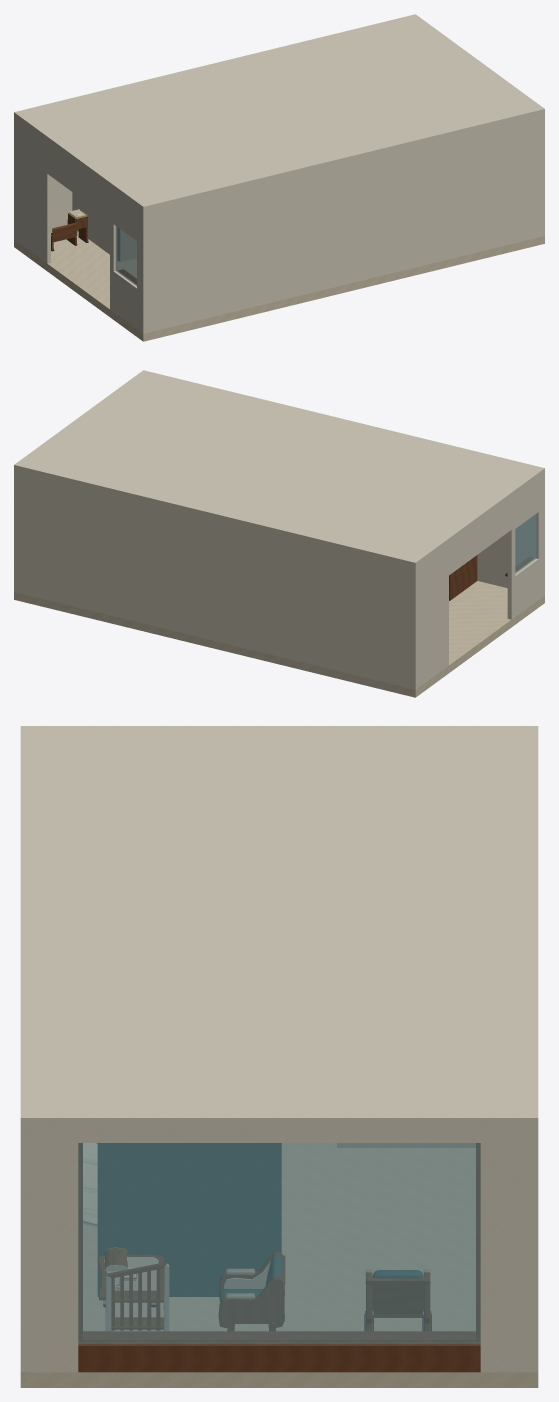
The model's file is QuietGroveBank_147_r001.glb.
The picture shows the model from 3 angles, top to bottom: view 1: azimuth 30°, elevation 25°; view 2: azimuth 150°, elevation 25°; view 3: azimuth 270°, elevation 25°; orthographic projection. The views are drawn at different scales.
Visible parts, largest first — view 1: QG147_Ceiling, QG147_NorthSide, QG147_RoomFloor, QG147_EntryShoulderSouth, QG147_EntryHeader, QG147_StreetWindowLower, QG147_WashEntrySide, QG147_SouthSide, QG147_StreetWindowUpper, QG147_ScreenedStreetGlass, QGB147_CourtSouthPier; view 2: QG147_Ceiling, QG147_SouthSide, QG147_RoomFloor, QG147_EntryShoulderSouth, QG147_NorthSide, QG147_EntryHeader, QG147_StreetWindowLower, QG147_StreetWindowUpper, QG147_ScreenedStreetGlass, QG147_EntryPrivacyDogleg, QG147_StreetWindowInnerMullion; view 3: QG147_Ceiling, QGB147_PrivateCourtGlass, QG147_RoomFloor, QG147_Cocoon01_RearLiner, QGB147_CourtNorthPier, QGB147_CourtSouthPier, QGB147_CourtSill, QGB147_CourtHeader, QGB147_DeepReveal_0.34, QG147_SouthSide, QG147_NorthSide, QG147_QG147_DayReadingChair__DAY_CHAIR_L_swept_walnut_cheek (+4 smaller).
Part boxes in pixels (x1,y1,x2,y2): QG147_Ceiling: [14, 14, 544, 211]; QG147_NorthSide: [141, 114, 544, 333]; QG147_RoomFloor: [14, 231, 544, 341]; QG147_EntryShoulderSouth: [16, 119, 50, 263]; QG147_EntryHeader: [47, 142, 110, 219]; QG147_StreetWindowLower: [110, 269, 141, 331]; QG147_WashEntrySide: [72, 192, 123, 261]; QG147_SouthSide: [14, 117, 72, 240]; QG147_StreetWindowUpper: [110, 188, 141, 243]; QG147_ScreenedStreetGlass: [115, 226, 136, 285]; QGB147_CourtSouthPier: [537, 114, 544, 236]; QG147_Ceiling: [14, 370, 544, 567]; QG147_SouthSide: [14, 470, 417, 689]; QG147_RoomFloor: [14, 581, 544, 697]; QG147_EntryShoulderSouth: [417, 544, 448, 687]; QG147_NorthSide: [477, 473, 544, 596]; QG147_EntryHeader: [448, 497, 512, 575]; QG147_StreetWindowLower: [507, 556, 542, 619]; QG147_StreetWindowUpper: [510, 475, 542, 531]; QG147_ScreenedStreetGlass: [515, 514, 536, 573]; QG147_EntryPrivacyDogleg: [449, 555, 477, 600]; QG147_StreetWindowInnerMullion: [507, 529, 515, 578]; QG147_Ceiling: [20, 726, 538, 1128]; QGB147_PrivateCourtGlass: [78, 1143, 480, 1343]; QG147_RoomFloor: [20, 1143, 538, 1387]; QG147_Cocoon01_RearLiner: [102, 1143, 276, 1296]; QGB147_CourtNorthPier: [480, 1128, 537, 1372]; QGB147_CourtSouthPier: [20, 1128, 78, 1372]; QGB147_CourtSill: [78, 1342, 480, 1372]; QGB147_CourtHeader: [78, 1128, 480, 1142]; QGB147_DeepReveal_0.34: [83, 1331, 475, 1341]; QG147_SouthSide: [529, 1128, 538, 1372]; QG147_NorthSide: [20, 1128, 29, 1372]; QG147_QG147_DayReadingChair__DAY_CHAIR_L_swept_walnut_cheek: [219, 1276, 284, 1327].
Size of the model in its own units: 12.9 by 4.14 by 7.2.
64 materials, 49 textured.
